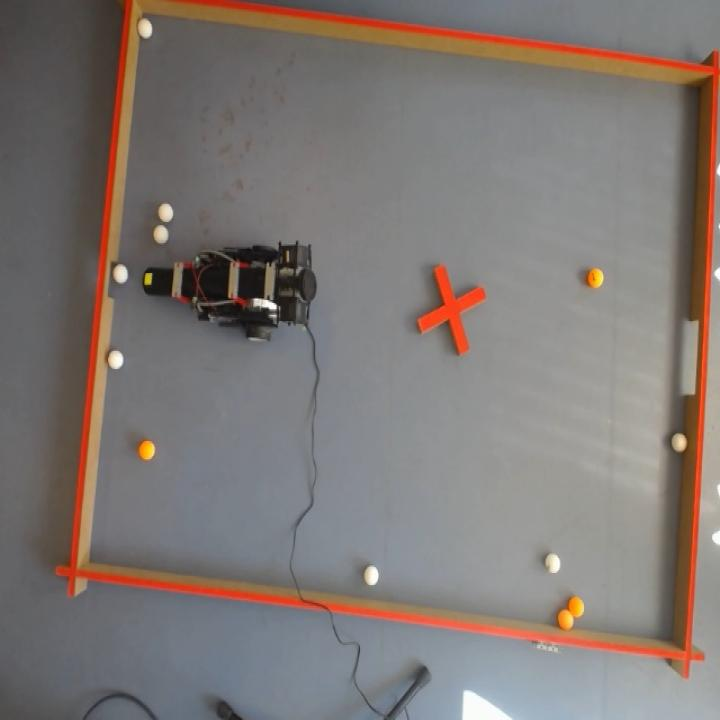orange: (138, 440, 156, 461), (568, 596, 584, 618), (587, 268, 604, 288), (558, 609, 573, 630)
robot: (142, 241, 317, 342)
robot-front: (143, 268, 169, 296)
white: (544, 553, 561, 574), (112, 264, 128, 285), (137, 17, 152, 39), (671, 433, 688, 452), (364, 565, 379, 586), (108, 350, 124, 369), (153, 225, 169, 244), (158, 202, 173, 222)
